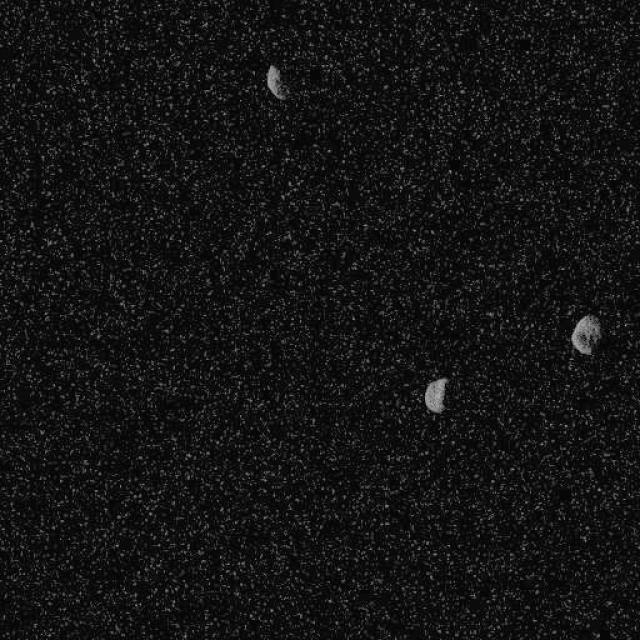D2: (570, 313, 601, 357), (422, 376, 448, 414), (265, 64, 289, 100)
